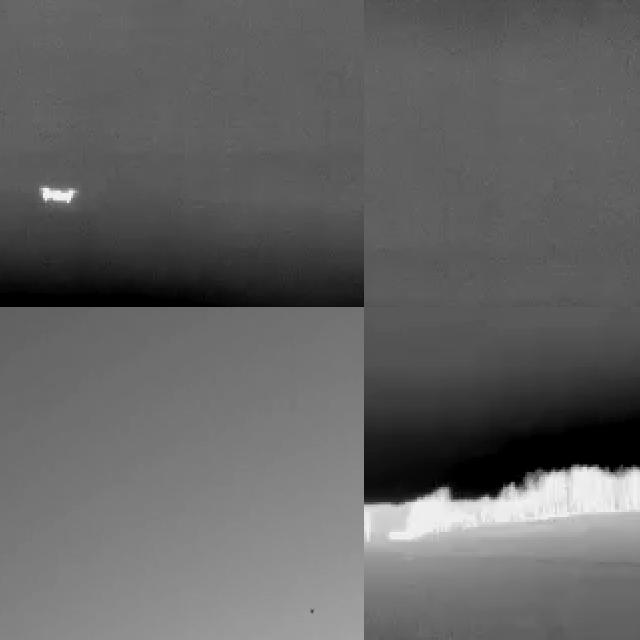1: (27, 180, 87, 214)
drone: (306, 600, 317, 622)
